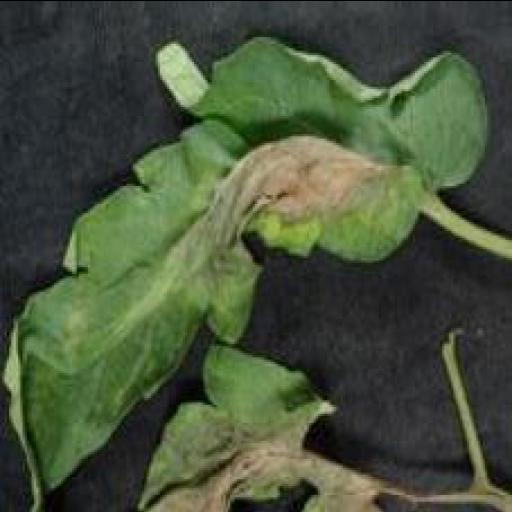Late Blight: (0, 25, 498, 510)
